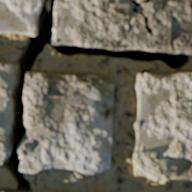brick: (53, 0, 191, 54), (133, 72, 191, 180), (0, 0, 42, 34), (0, 189, 17, 191)
broken_brick: (18, 71, 115, 175), (0, 60, 14, 165)
crack: (2, 0, 190, 191)
